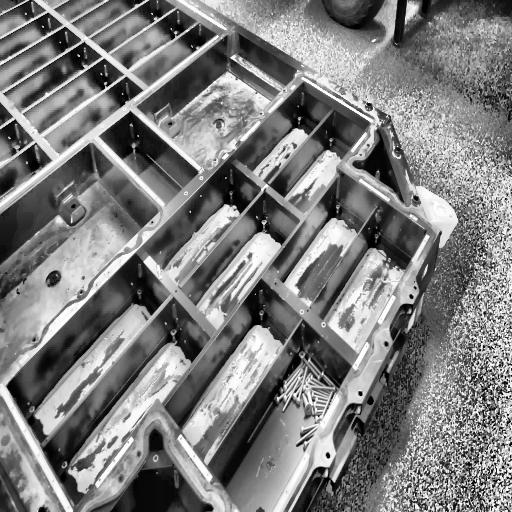b_casing: (1, 0, 444, 512)
